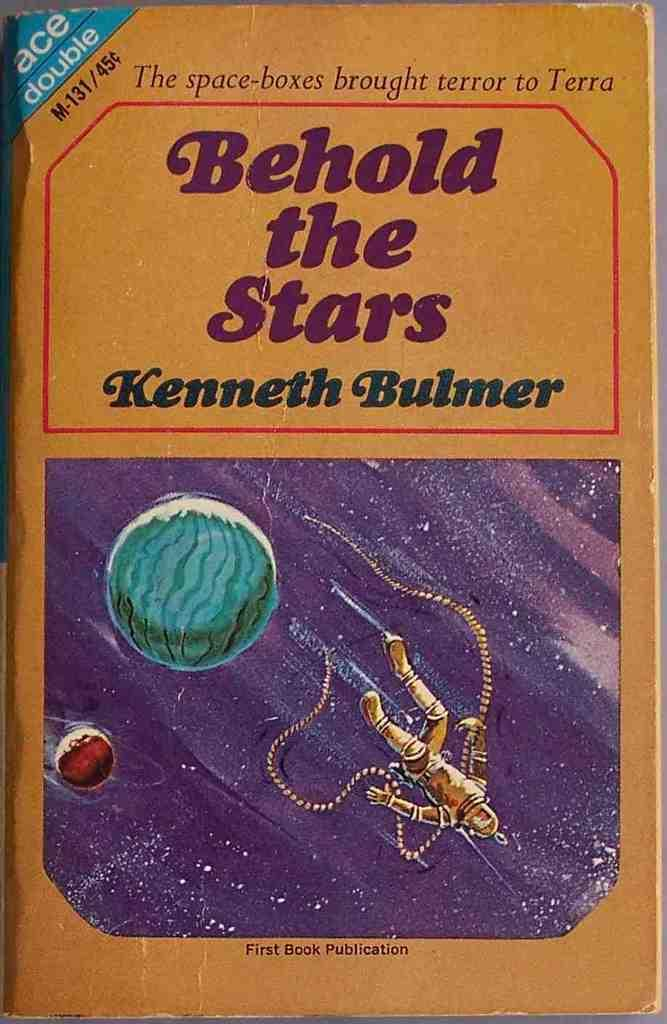book: (0, 4, 666, 1017)
